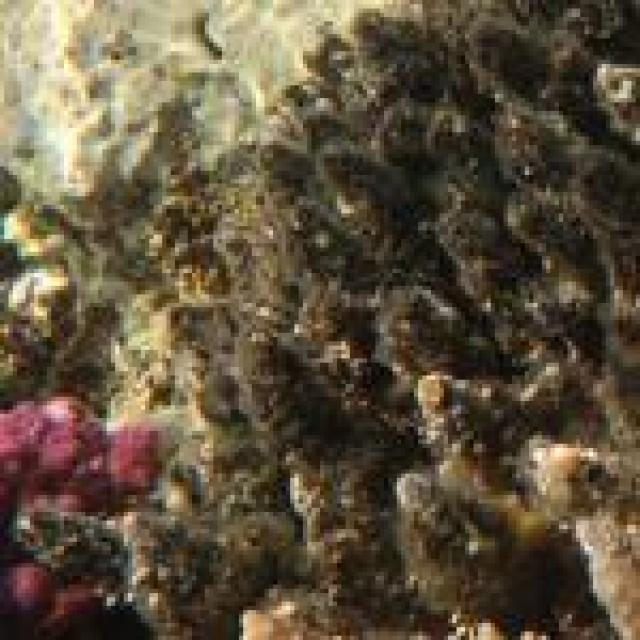Dead Coral: (240, 3, 640, 640)
Healthy Coral: (0, 396, 168, 516)
